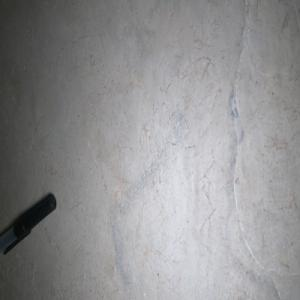Pen: (0, 193, 56, 255)
